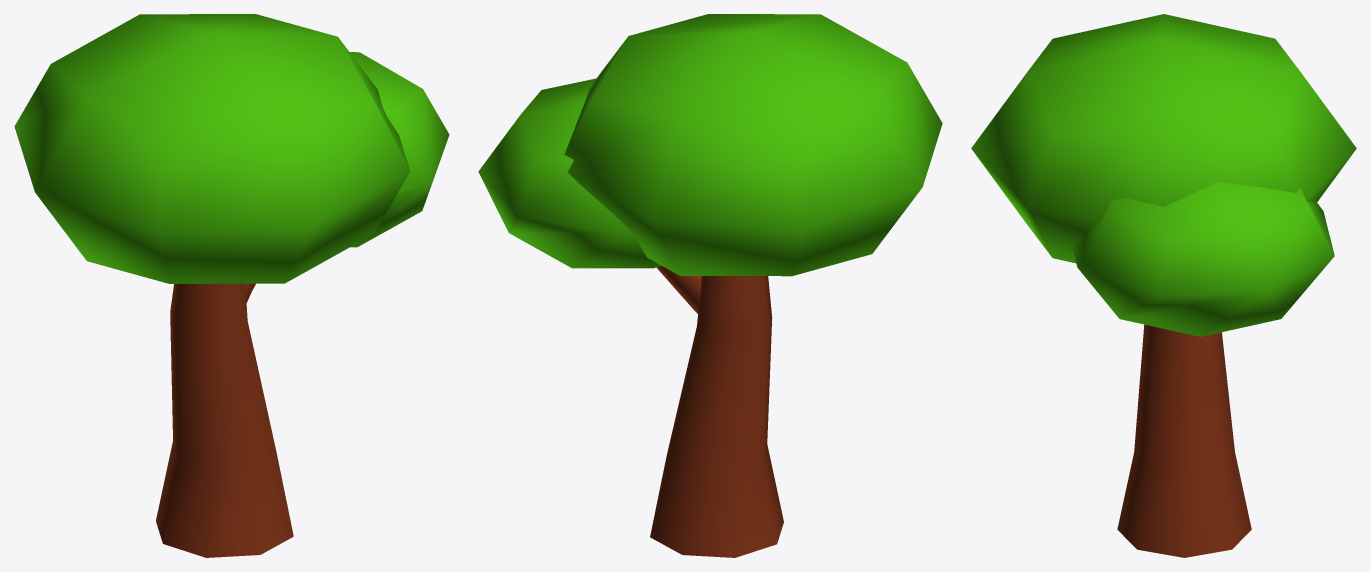
The model's file is EarthTree.glb.
3 views of the same model, side by side, from view 1: azimuth 30°, elevation 25°; view 2: azimuth 150°, elevation 25°; view 3: azimuth 270°, elevation 25° (orthographic). The views are drawn at different scales.
Parts seen in each view (by area): view 1: Trees; view 2: Trees; view 3: Trees.
Boxes of the visible parts, box(x1,y1,x2,y2) form: Trees: box(14, 14, 449, 557); Trees: box(478, 14, 942, 557); Trees: box(971, 14, 1356, 557).
Size of the model in its own units: 6.68 by 7.86 by 5.74.
